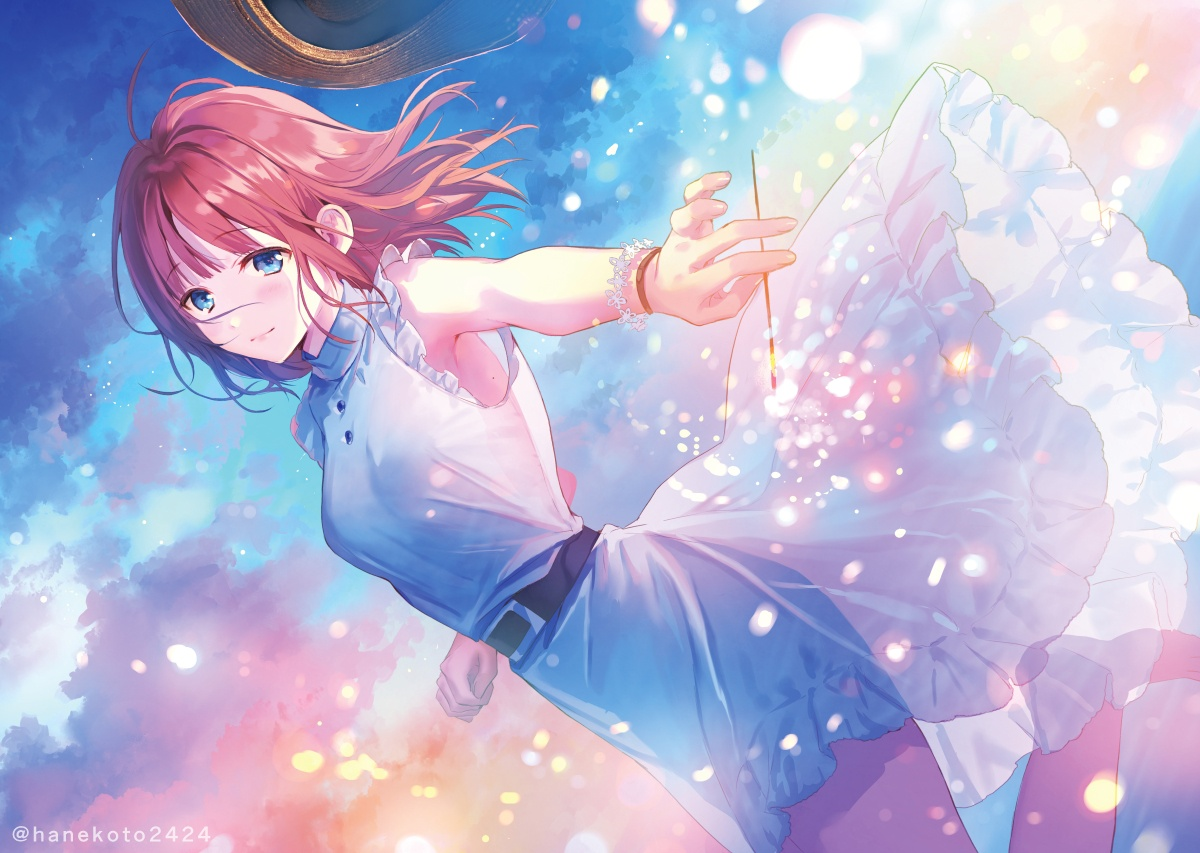纸片人正脸: (125, 92, 402, 370)
